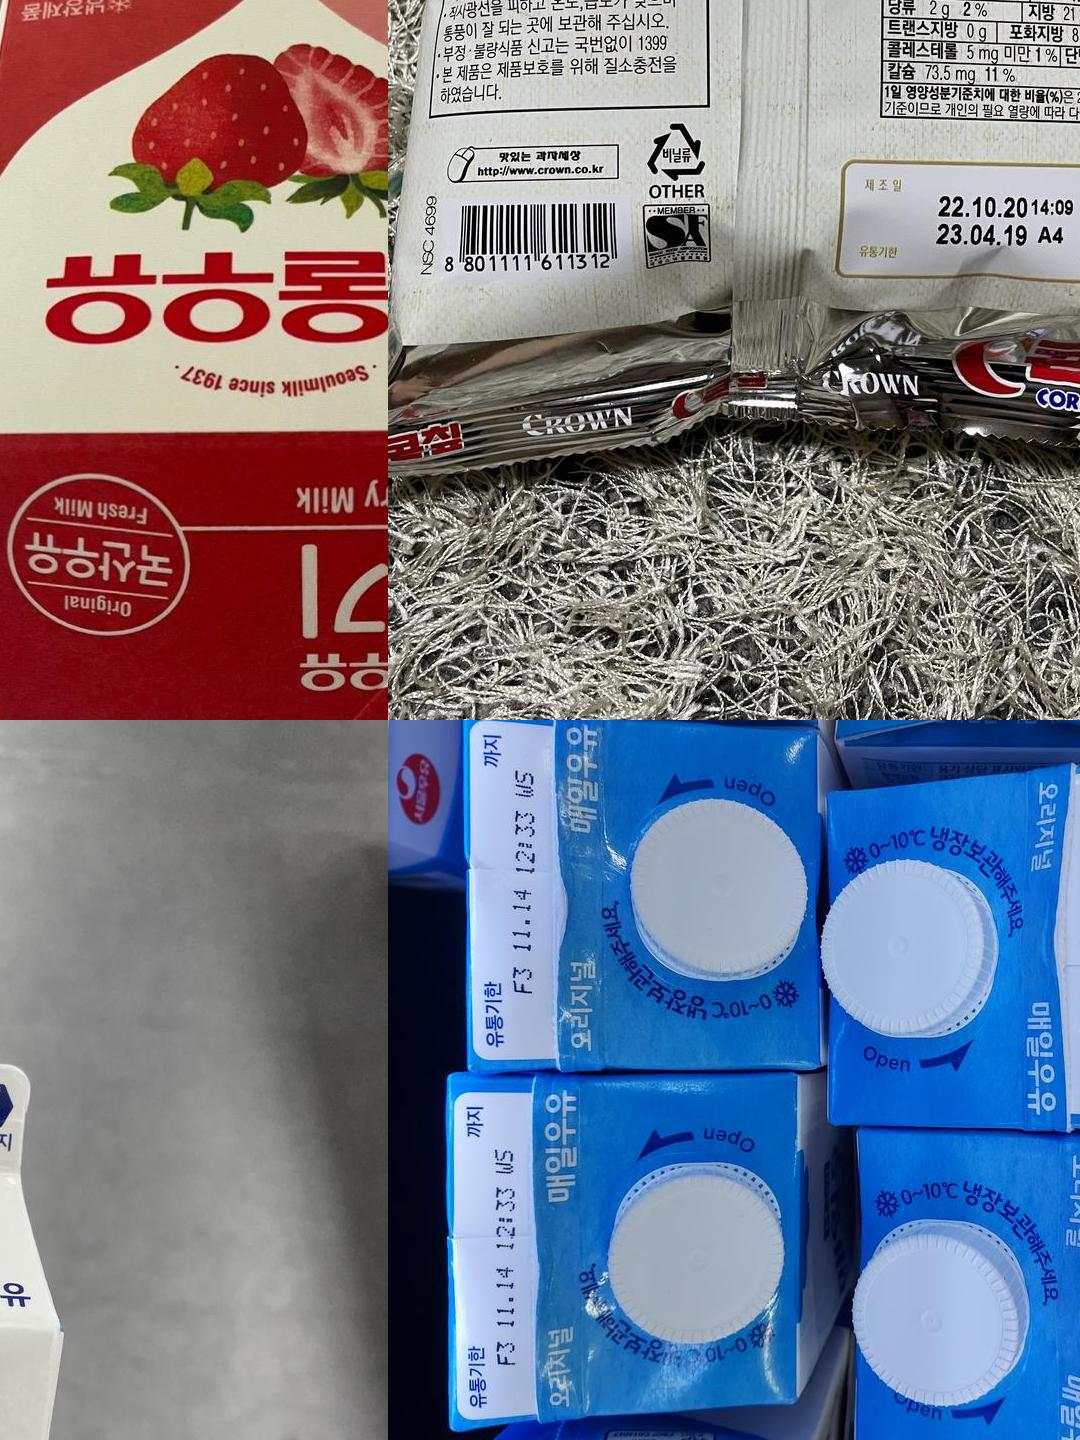milk: (471, 720, 557, 1062), (453, 1092, 537, 1428), (0, 1037, 206, 1164), (1058, 776, 1080, 1120)
snack food: (925, 176, 1080, 269)
